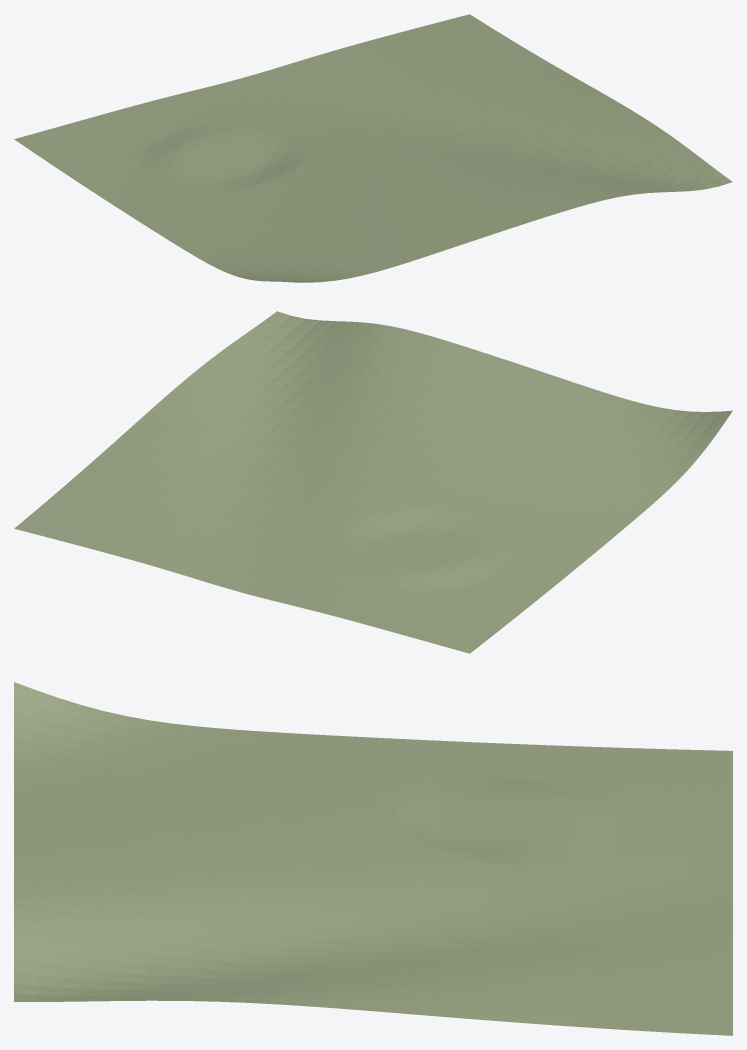
The model's file is lunar-2-3.glb.
3 views of the same model, one above another, from view 1: azimuth 30°, elevation 25°; view 2: azimuth 150°, elevation 25°; view 3: azimuth 270°, elevation 25° (orthographic). The views are drawn at different scales.
Visible parts, largest first — view 1: lunar-2-3; view 2: lunar-2-3; view 3: lunar-2-3.
Boxes of the visible parts, x1,y1,x2,y2 form: lunar-2-3: [14, 14, 732, 282]; lunar-2-3: [14, 311, 732, 653]; lunar-2-3: [14, 682, 732, 1035].
Size of the model in its own units: 128 by 13.93 by 128.
